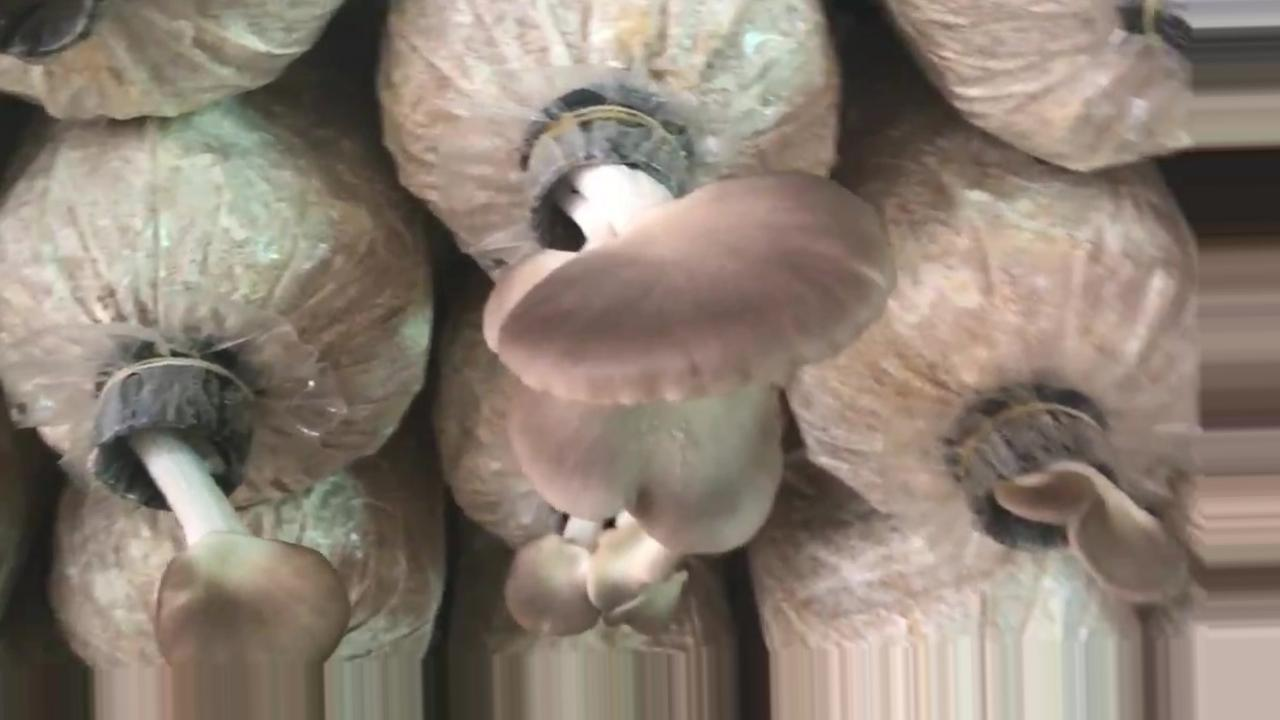nam: (504, 107, 892, 632), (92, 359, 348, 720), (963, 405, 1188, 605)
